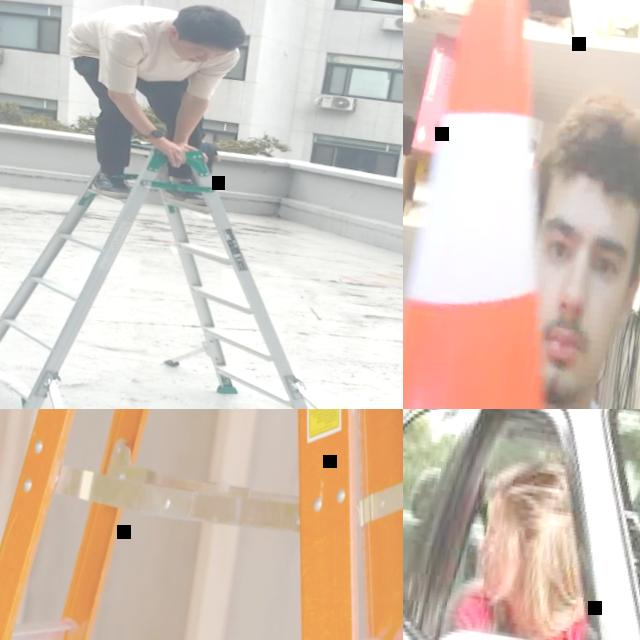NO-Hardhat: (535, 95, 640, 219), (478, 455, 576, 538), (172, 2, 250, 54)
NO-Mask: (529, 307, 603, 403), (478, 554, 525, 606), (166, 41, 205, 65)
NO-Safety Vest: (68, 0, 213, 88)
Person: (469, 84, 640, 409), (44, 0, 253, 216), (441, 453, 640, 640)
Safety Cone: (403, 0, 640, 409)
vehicle: (403, 409, 640, 640)
